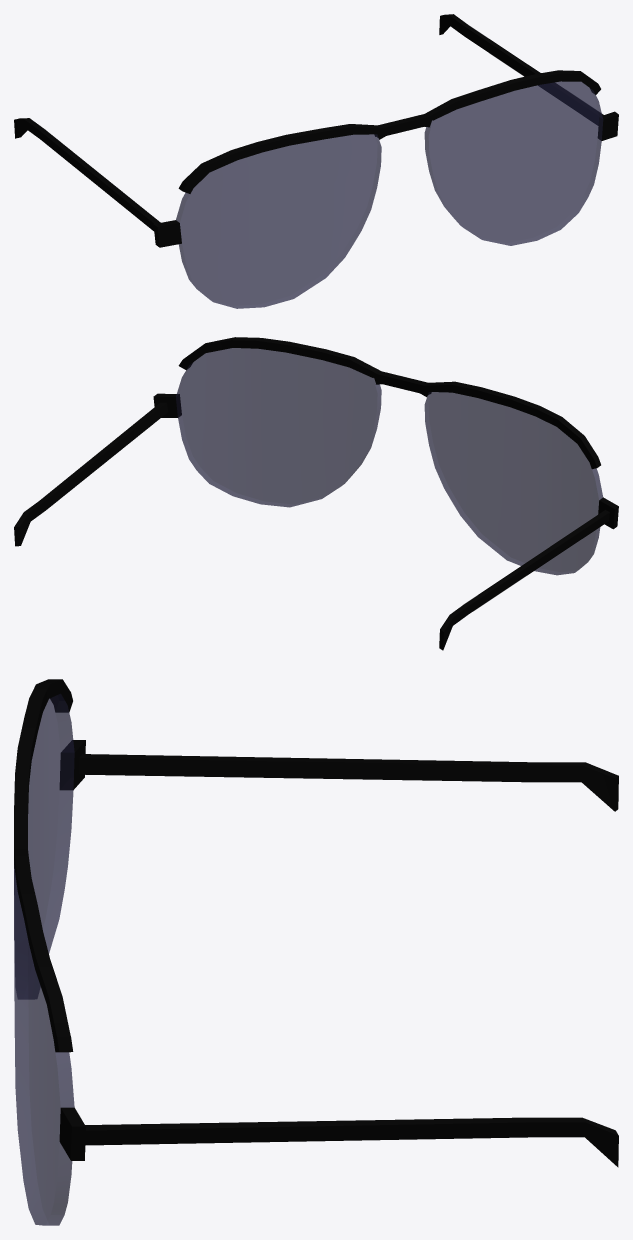
File: fbxGlasses.fbx
3 renders of one model, top to bottom at view 1: azimuth 30°, elevation 25°; view 2: azimuth 150°, elevation 25°; view 3: azimuth 270°, elevation 25°, orthographic. The views are drawn at different scales.
Parts seen in each view (by area): view 1: glasses; view 2: glasses; view 3: glasses.
Part boxes in pixels (left/top/right/bottom): glasses: left=14, top=14, right=618, bottom=308; glasses: left=14, top=337, right=618, bottom=650; glasses: left=14, top=679, right=618, bottom=1225.
Bounding box in the file's own units: 4.43 × 1.51 × 2.93.
